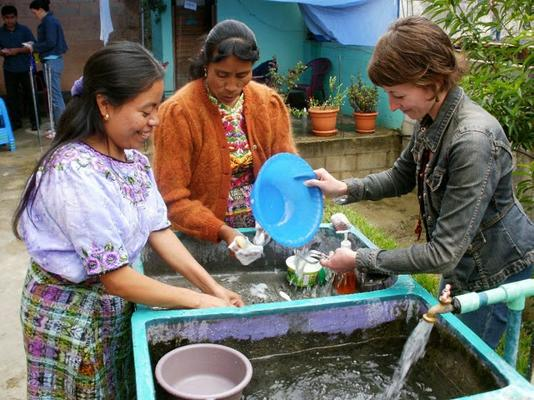person: (303, 18, 533, 351)
